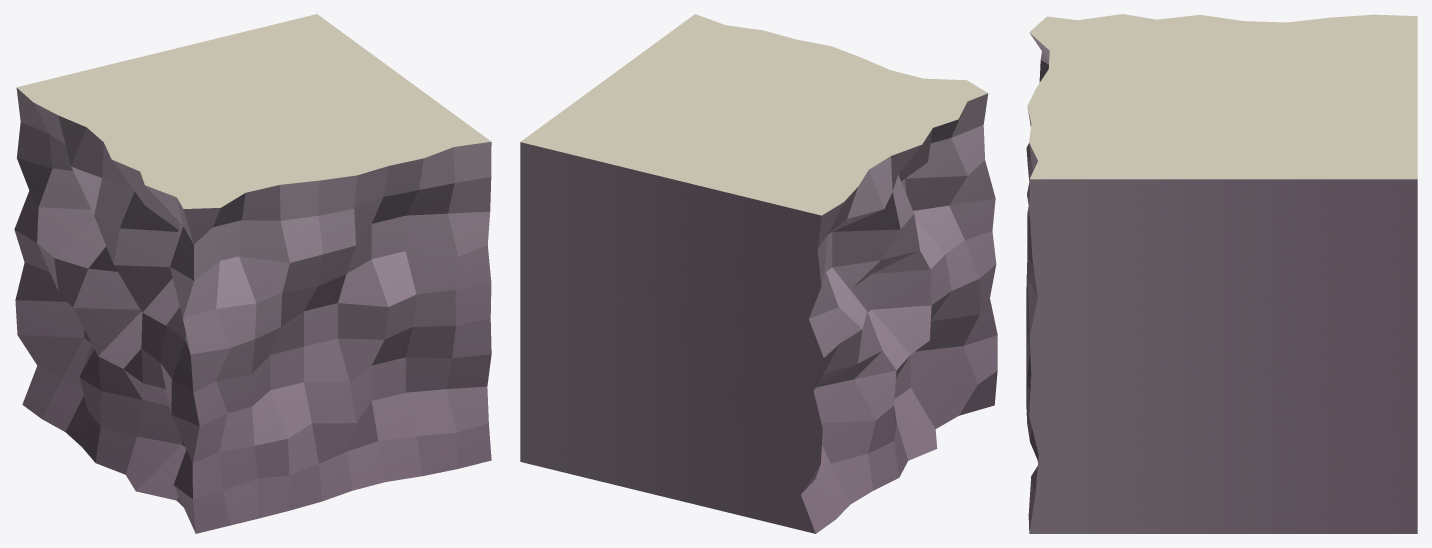
Rendered from cornerTerrainTile1.fbx.
The picture shows the model from 3 angles, left to right: view 1: azimuth 30°, elevation 25°; view 2: azimuth 150°, elevation 25°; view 3: azimuth 270°, elevation 25°; orthographic projection. The views are drawn at different scales.
Parts seen in each view (by area): view 1: base3.001; view 2: base3.001; view 3: base3.001.
Boxes of the visible parts, box(x1,y1,x2,y2) form: base3.001: box(14, 14, 491, 533); base3.001: box(520, 14, 997, 533); base3.001: box(1026, 14, 1417, 533).
Size of the model in its own units: 200 by 200 by 200.
